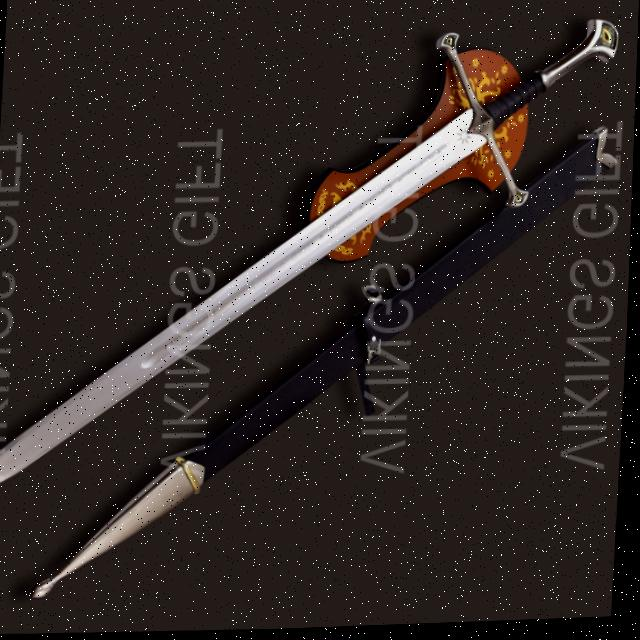knife: (0, 17, 628, 529)
